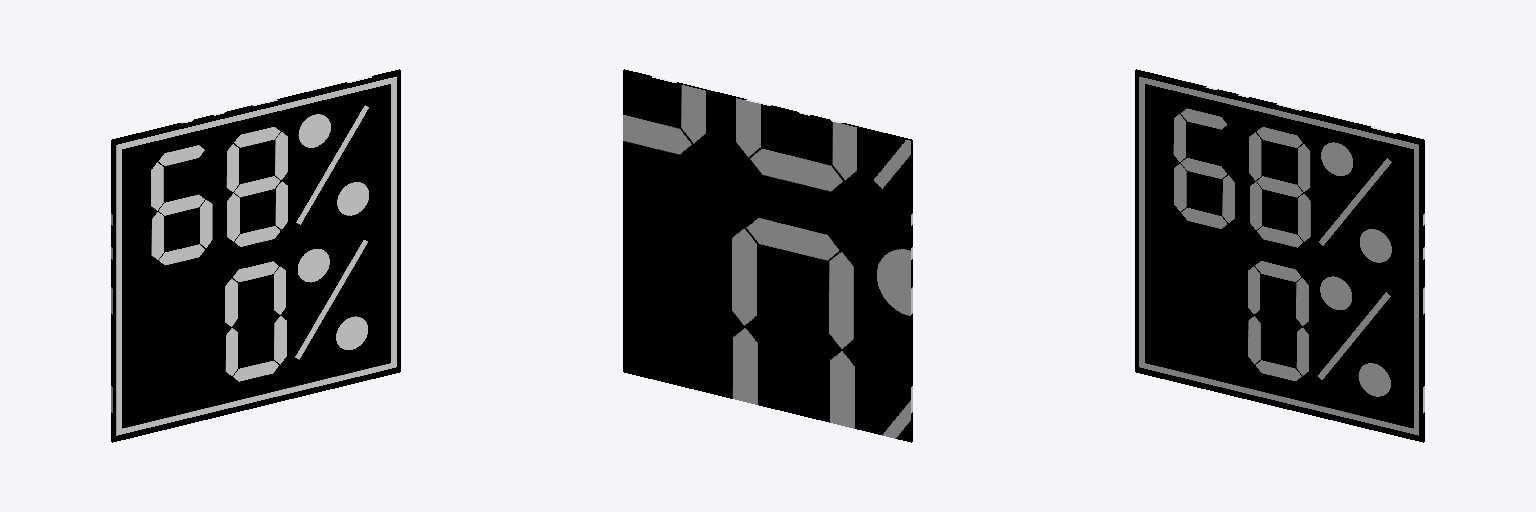
The picture shows the model from 3 angles: view 1: azimuth 30°, elevation 25°; view 2: azimuth 150°, elevation 25°; view 3: azimuth 330°, elevation 25°; orthographic projection.
Parts seen in each view (by area): view 1: measure_gas_1_Body1.024_Body1.020; view 2: measure_gas_1_Body1.024_Body1.020; view 3: measure_gas_1_Body1.024_Body1.020.
Part boxes in pixels (left/top/right/bottom): measure_gas_1_Body1.024_Body1.020: left=111, top=69, right=400, bottom=442; measure_gas_1_Body1.024_Body1.020: left=623, top=69, right=912, bottom=442; measure_gas_1_Body1.024_Body1.020: left=1135, top=69, right=1424, bottom=442.
Bounding box in the file's own units: 0.11 × 0.11 × 0.001.
Materials: 1 (1 with a texture image).